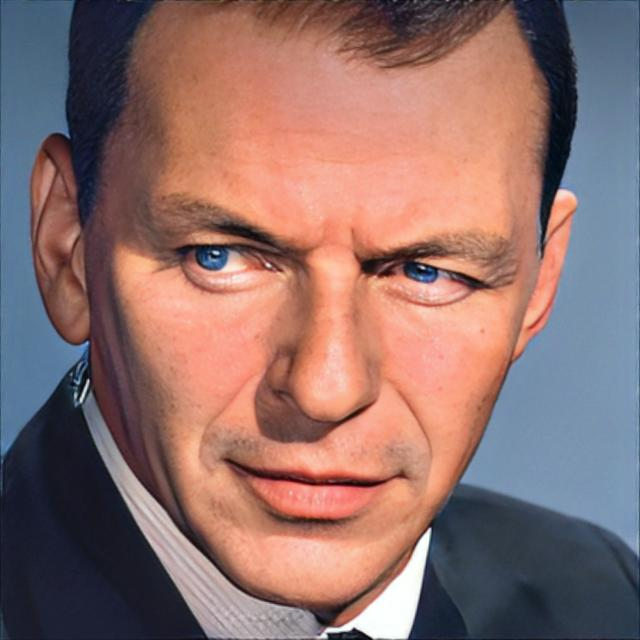content: (83, 0, 552, 606)
